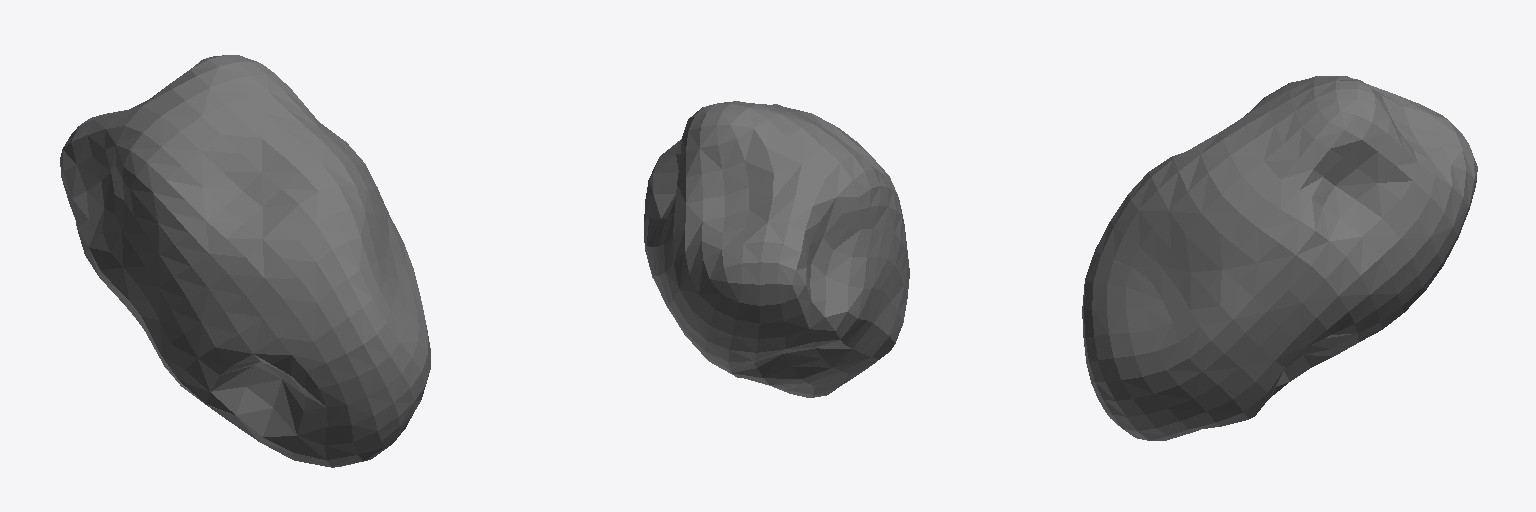
File: ASTEROID.OBJ
The picture shows the model from 3 angles: view 1: azimuth 30°, elevation 25°; view 2: azimuth 150°, elevation 25°; view 3: azimuth 270°, elevation 25°; orthographic projection.
Visible parts, largest first — view 1: ASTEROID2; view 2: ASTEROID2; view 3: ASTEROID2.
Boxes of the visible parts, x1,y1,x2,y2 form: ASTEROID2: [60, 55, 430, 467]; ASTEROID2: [644, 101, 909, 397]; ASTEROID2: [1082, 76, 1477, 440].
Bounding box in the file's own units: 3.42 × 4.53 × 4.75.